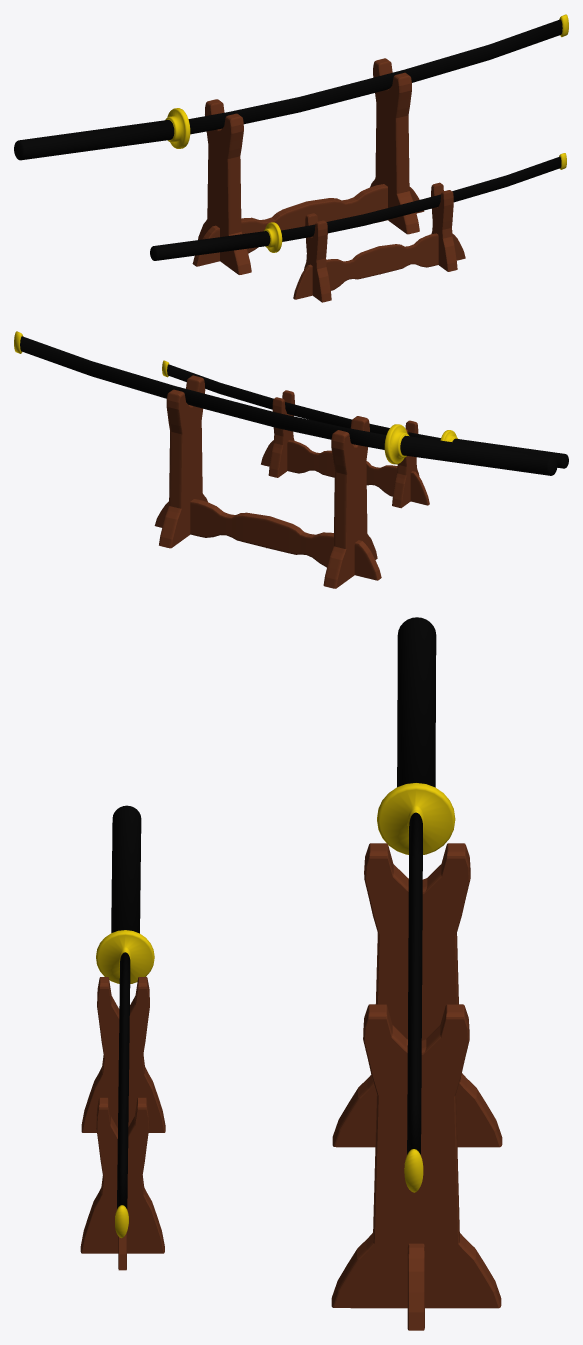
Rendered from Espadas.fbx.
The picture shows the model from 3 angles, top to bottom: view 1: azimuth 30°, elevation 25°; view 2: azimuth 150°, elevation 25°; view 3: azimuth 270°, elevation 25°; orthographic projection. The views are drawn at different scales.
Parts seen in each view (by area): view 1: Circle.001; view 2: Circle.001; view 3: Circle.001.
Part boxes in pixels (bbox=[...]): Circle.001: bbox=[14, 14, 568, 302]; Circle.001: bbox=[14, 331, 568, 588]; Circle.001: bbox=[80, 617, 502, 1330].
Size of the model in its own units: 1102 by 320 by 373.
